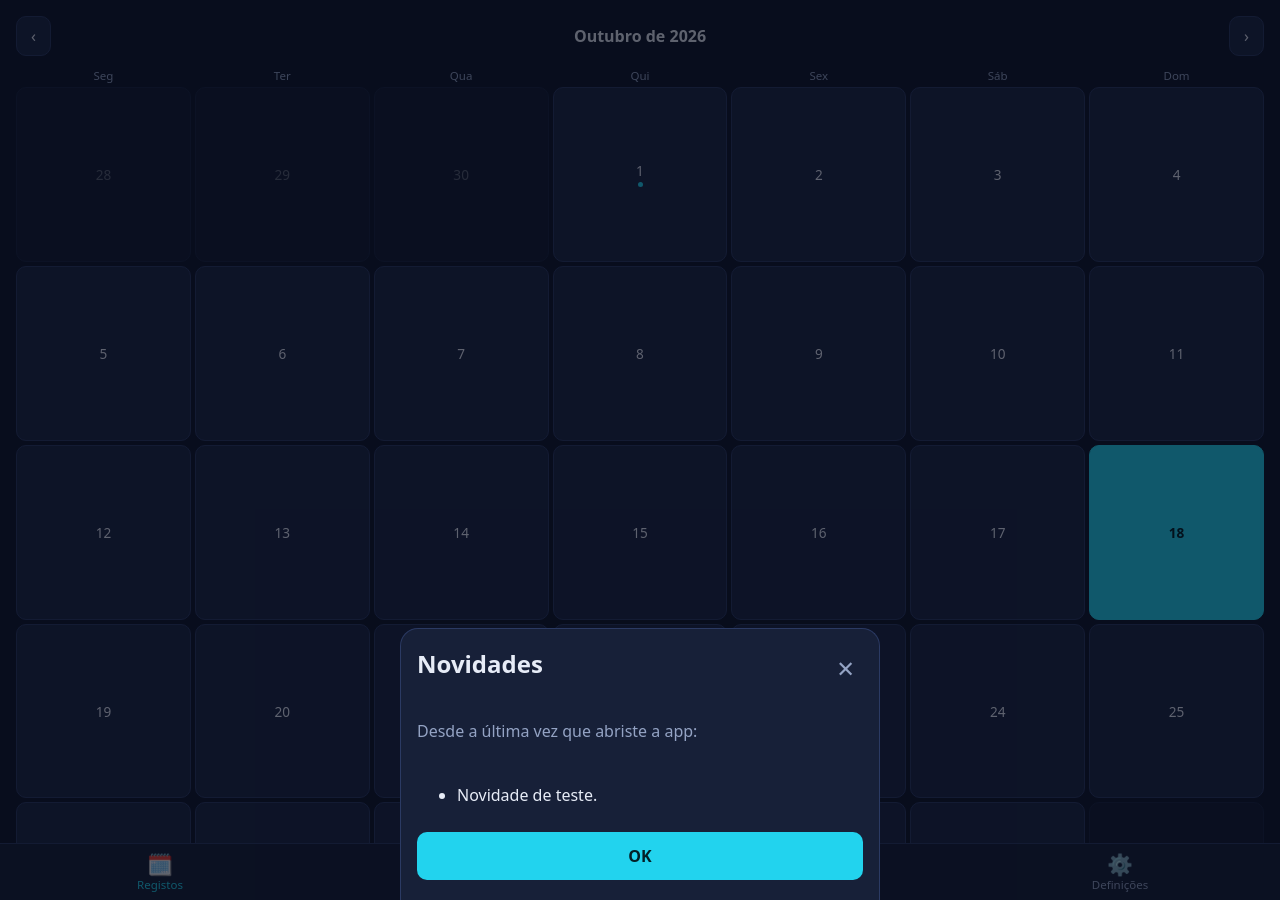
it: App › what is new popup › closes with OK
The image size is (1280, 900).
Click the button "OK".
click(640, 856)  # box left=417, top=832, right=863, bottom=880
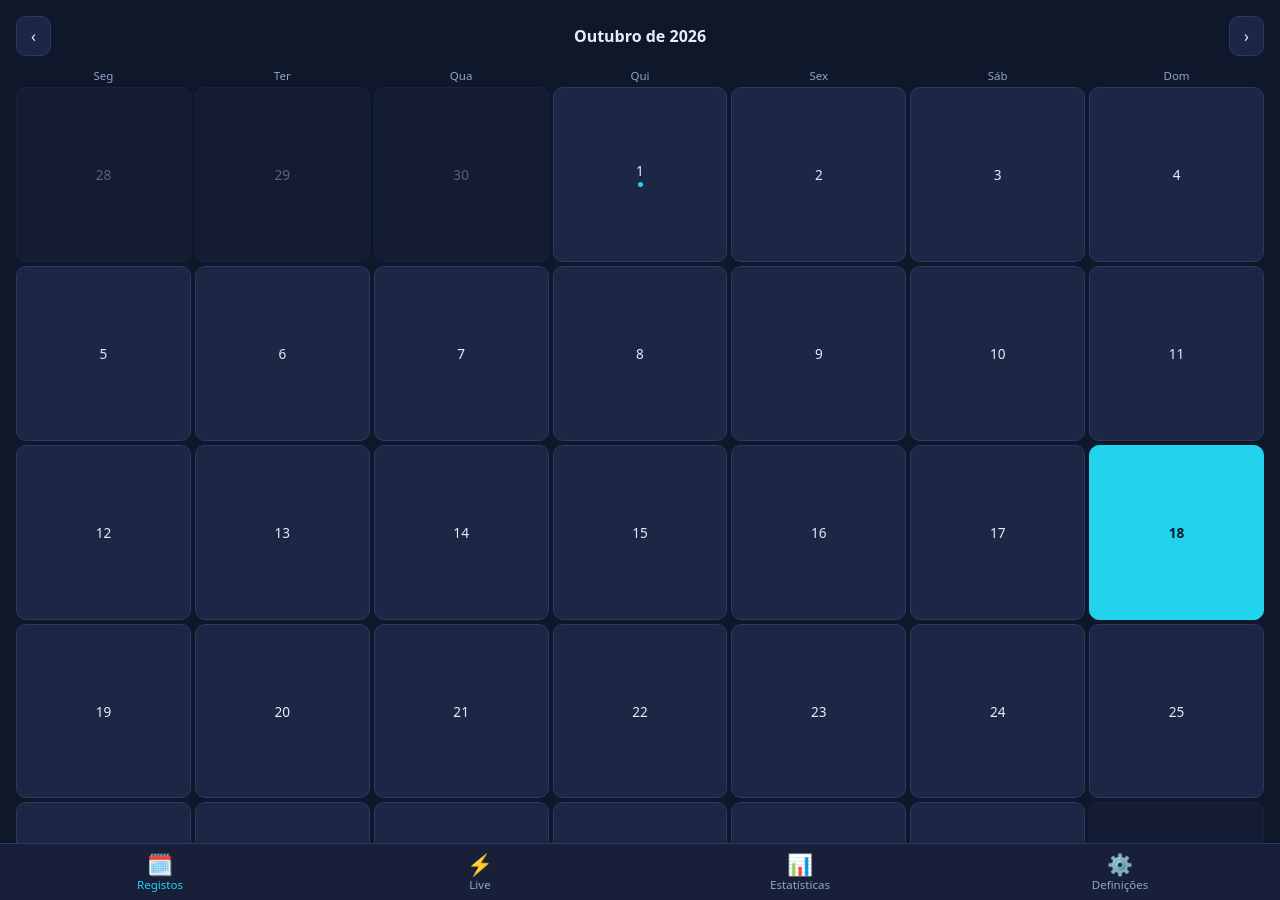
Now the heading "Novidades" is gone
